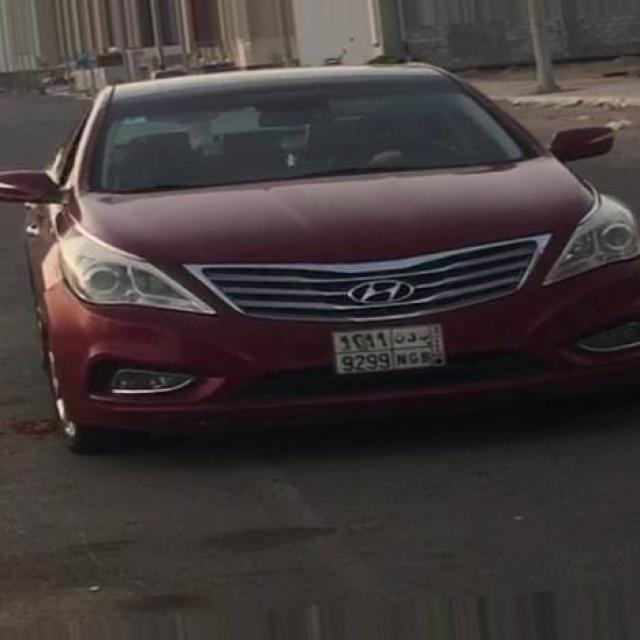Car-plate: (327, 311, 463, 378)
